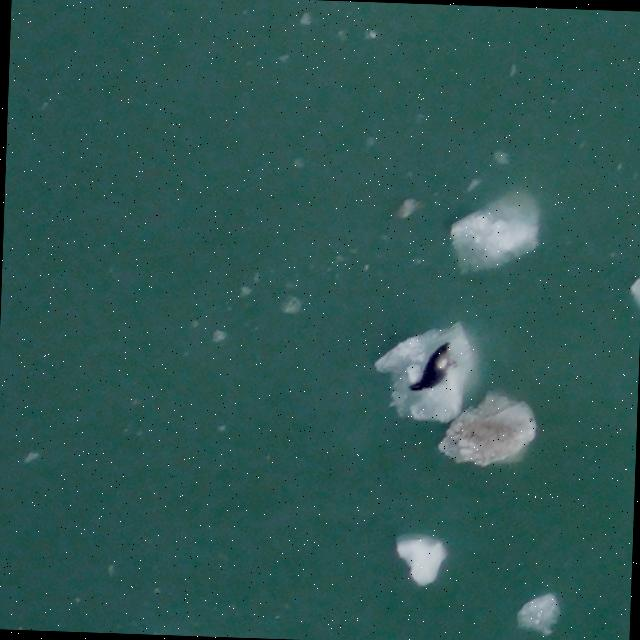seal: (405, 337, 462, 395)
